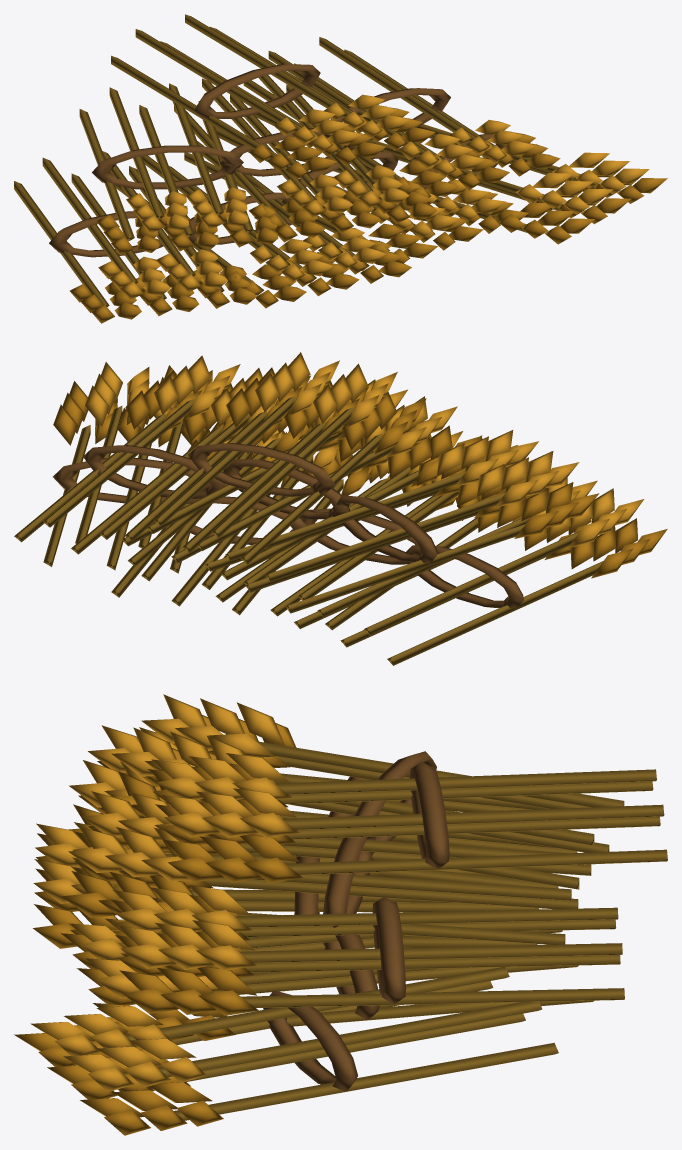
File: pile-rice-8.obj
3 renders of one model, top to bottom at view 1: azimuth 30°, elevation 25°; view 2: azimuth 150°, elevation 25°; view 3: azimuth 270°, elevation 25°, orthographic. The views are drawn at different scales.
Parts seen in each view (by area): view 1: pile-rice-8; view 2: pile-rice-8; view 3: pile-rice-8.
Boxes of the visible parts, bbox=[...] form: pile-rice-8: bbox=[14, 14, 667, 323]; pile-rice-8: bbox=[14, 352, 667, 665]; pile-rice-8: bbox=[14, 694, 667, 1135].
Bounding box in the file's own units: 0.7921 × 0.1748 × 0.5717.
1 material, 1 textured.
